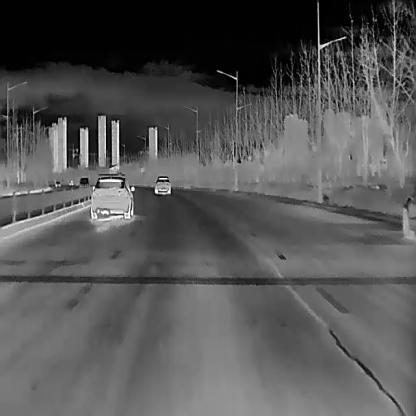car: (89, 171, 134, 218), (154, 174, 170, 193), (78, 176, 88, 188), (66, 179, 75, 185), (54, 180, 60, 186)
